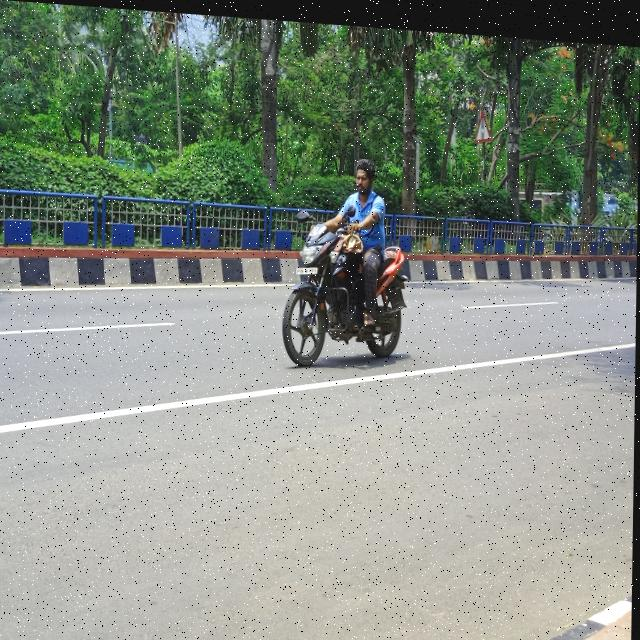bike: (270, 214, 448, 365)
